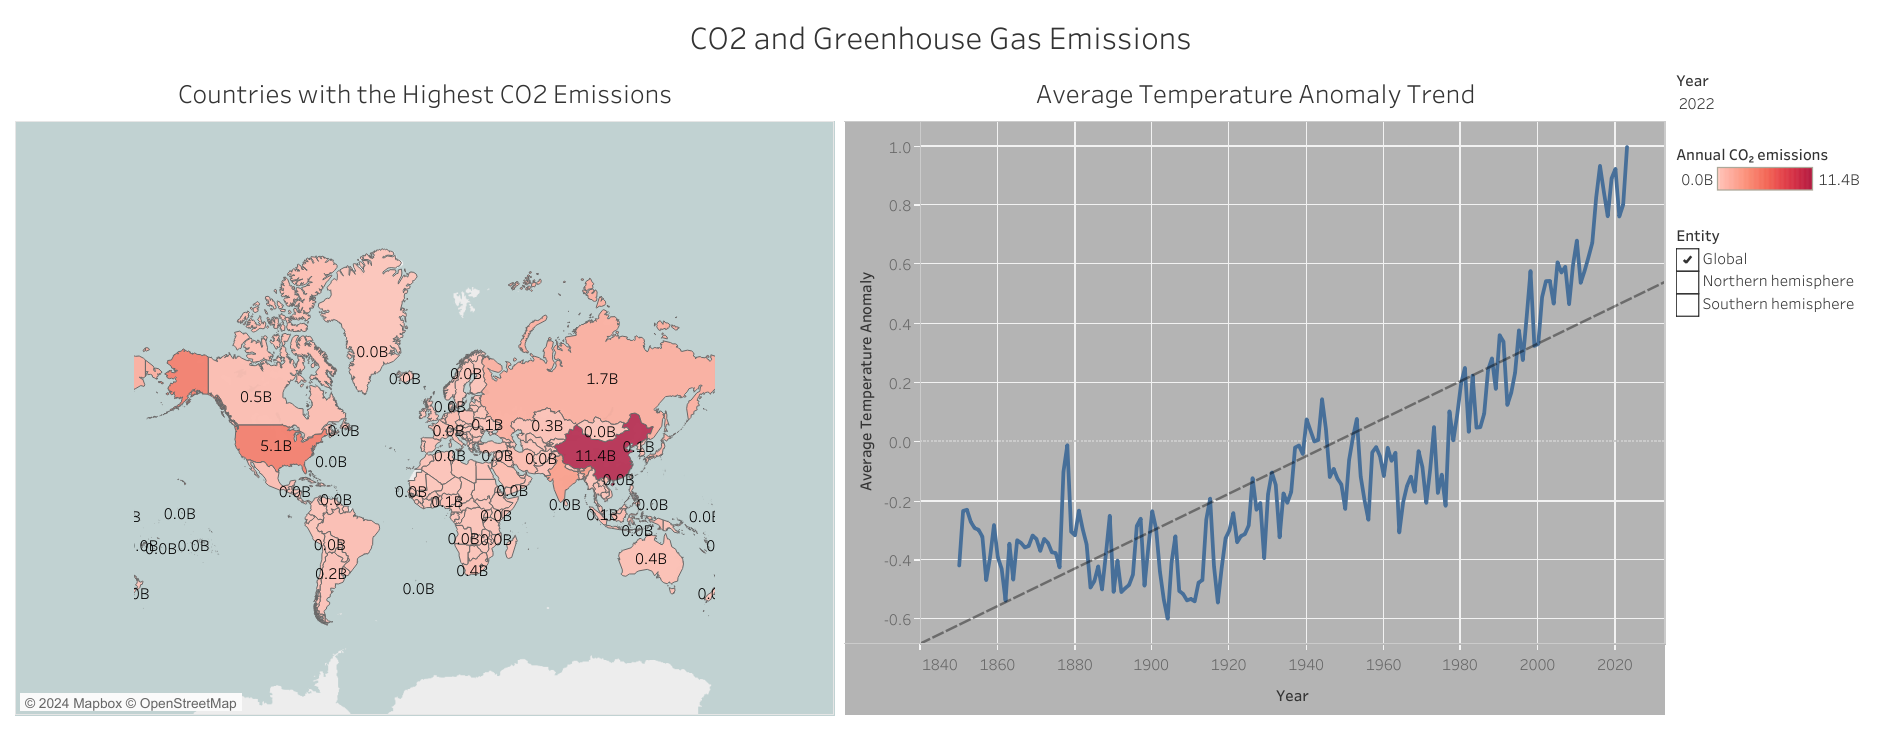

What the dashboard file says about the page in this screenshot:
{"tool":"tableau","page":{"name":"CO2 and Greenhouse Gas Emissions","canvas":[1000,1000],"units":"permille","ordinal":0},"visuals":[{"type":"title","box":[4.8,9.4,990.3,58.8]},{"type":"worksheet","title":"Countries with the Highest CO2 Emissions","mark":"Multipolygon","box":[4.8,68.2,446.9,922.5]},{"type":"worksheet","title":"Average Temperature Anomaly Trend","mark":"Line","rows":["Entity","Global average temperature anomaly relative to 1961-1990"],"cols":["Year"],"box":[451.7,68.2,446.9,922.5]},{"type":"filter","title":"Countries with the Highest CO2 Emissions","param":"[federated.0cary500xv0w161dbc7630bt7rbf].[none:Year:ok]","box":[898.6,68.2,96.6,71.7]},{"type":"legend","title":"Countries with the Highest CO2 Emissions","param":"[federated.0cary500xv0w161dbc7630bt7rbf].[none:Annual CO₂ emissions:qk]","box":[898.6,139.8,96.6,85.8]},{"type":"filter","title":"Average Temperature Anomaly Trend","param":"[federated.04rtpsq0vzzoia107rfwm1nfjlwo].[none:Entity:nk]","box":[898.6,225.6,96.6,150.4]}]}

Visuals, with their boxes on the dashboard's canvas, which has no fixed pixel size, in thousandths of its width and height (x1, y1, x2, y2). These are canvas units, not pixel positions in the 1880x730 screenshot, which may show the page scaled, cropped or inside an application window:
title: [5, 9, 995, 68]
"Countries with the Highest CO2 Emissions" worksheet (Multipolygon marks): [5, 68, 452, 991]
"Average Temperature Anomaly Trend" worksheet (Line marks): [452, 68, 899, 991]
"Countries with the Highest CO2 Emissions" filter: [899, 68, 995, 140]
"Countries with the Highest CO2 Emissions" legend: [899, 140, 995, 226]
"Average Temperature Anomaly Trend" filter: [899, 226, 995, 376]
